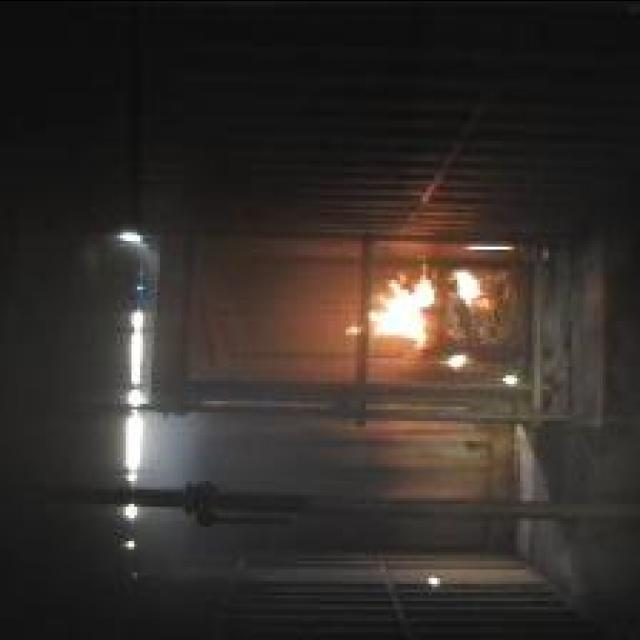Fire: (343, 279, 437, 347), (456, 268, 482, 302)
